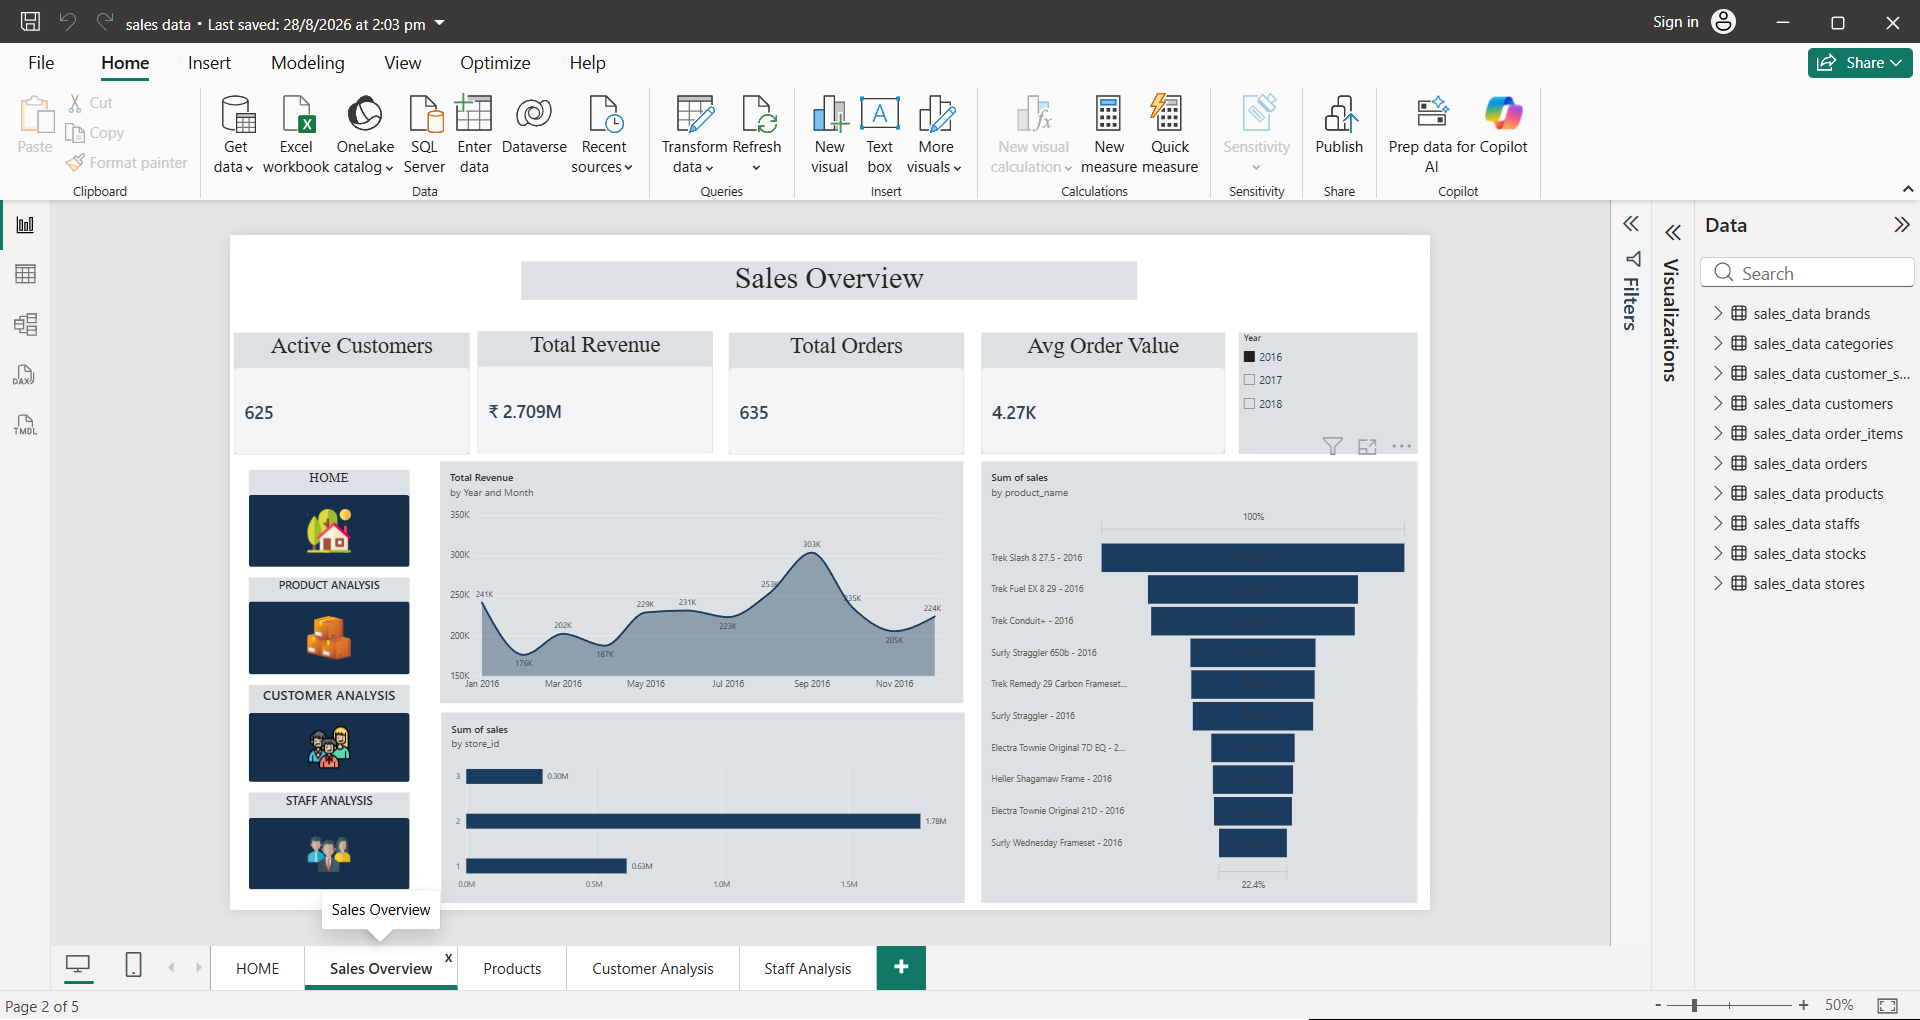

This screenshot's page, from the dashboard's own definition file:
{"tool":"powerbi","page":{"name":"Sales Overview","canvas":[1920,1080],"ordinal":1},"visuals":[{"type":"areaChart","fields":{"Y":["sales_data order_items.Total Revenue"],"Category":["sales_data orders.order_date.Variation.Date Hierarchy.Year","sales_data orders.order_date.Variation.Date Hierarchy.Month"]},"box":[336,362,837.7,387],"z":0},{"type":"funnel","fields":{"Category":["sales_data order_items.product_name"],"Y":["Sum(sales_data order_items.sales)"]},"box":[1202,362,698,706],"z":1000},{"type":"textbox","box":[465.2,41.2,985.9,61.7],"z":2000},{"type":"cardVisual","title":"Total Revenue","fields":{"Data":["sales_data order_items.Total Revenue"]},"box":[396,154,376.7,195.5],"z":3000},{"type":"cardVisual","title":"Total Orders","fields":{"Data":["sales_data order_items.total orders"]},"box":[798.6,156.4,376.7,195.5],"z":4000},{"type":"cardVisual","title":"Avg Order Value","fields":{"Data":["sales_data order_items.Avg Order Value"]},"box":[1202,156,390,194],"z":5000},{"type":"barChart","fields":{"Category":["sales_data orders.store_id"],"Y":["Sum(sales_data order_items.sales)"]},"box":[337.6,763.6,837.7,304.6],"z":6000},{"type":"cardVisual","title":"Active Customers","fields":{"Data":["sales_data order_items.Active Customers"]},"box":[5,155,377.5,195],"z":7000},{"type":"slicer","fields":{"Values":["sales_data orders.order_date.Variation.Date Hierarchy.Year"]},"box":[1614,156,286,194],"z":8000},{"type":"actionButton","title":"HOME","box":[30,375,257.5,155],"z":9000},{"type":"actionButton","title":"PRODUCT ANALYSIS","box":[30,547.5,257.5,155],"z":10000},{"type":"actionButton","title":"CUSTOMER ANALYSIS","box":[30,720,257.5,155],"z":11000},{"type":"actionButton","title":"STAFF ANALYSIS","box":[30,892.5,257.5,155],"z":12000}]}

Visuals, with their boxes on the page's 1920x1080 design canvas (x1, y1, x2, y2). These are canvas units, not pixel positions in the 1920x1020 screenshot, which may show the page scaled, cropped or inside an application window:
areaChart - sales_data order_items.Total Revenue x sales_data orders.order_date.Variation.Date Hierarchy.Year: 336 362 1174 749
funnel - sales_data order_items.product_name x Sum(sales_data order_items.sales): 1202 362 1900 1068
textbox: 465 41 1451 103
"Total Revenue" cardVisual: 396 154 773 350
"Total Orders" cardVisual: 799 156 1175 352
"Avg Order Value" cardVisual: 1202 156 1592 350
barChart - sales_data orders.store_id x Sum(sales_data order_items.sales): 338 764 1175 1068
"Active Customers" cardVisual: 5 155 382 350
slicer - sales_data orders.order_date.Variation.Date Hierarchy.Year: 1614 156 1900 350
"HOME" actionButton: 30 375 288 530
"PRODUCT ANALYSIS" actionButton: 30 548 288 702
"CUSTOMER ANALYSIS" actionButton: 30 720 288 875
"STAFF ANALYSIS" actionButton: 30 892 288 1048
